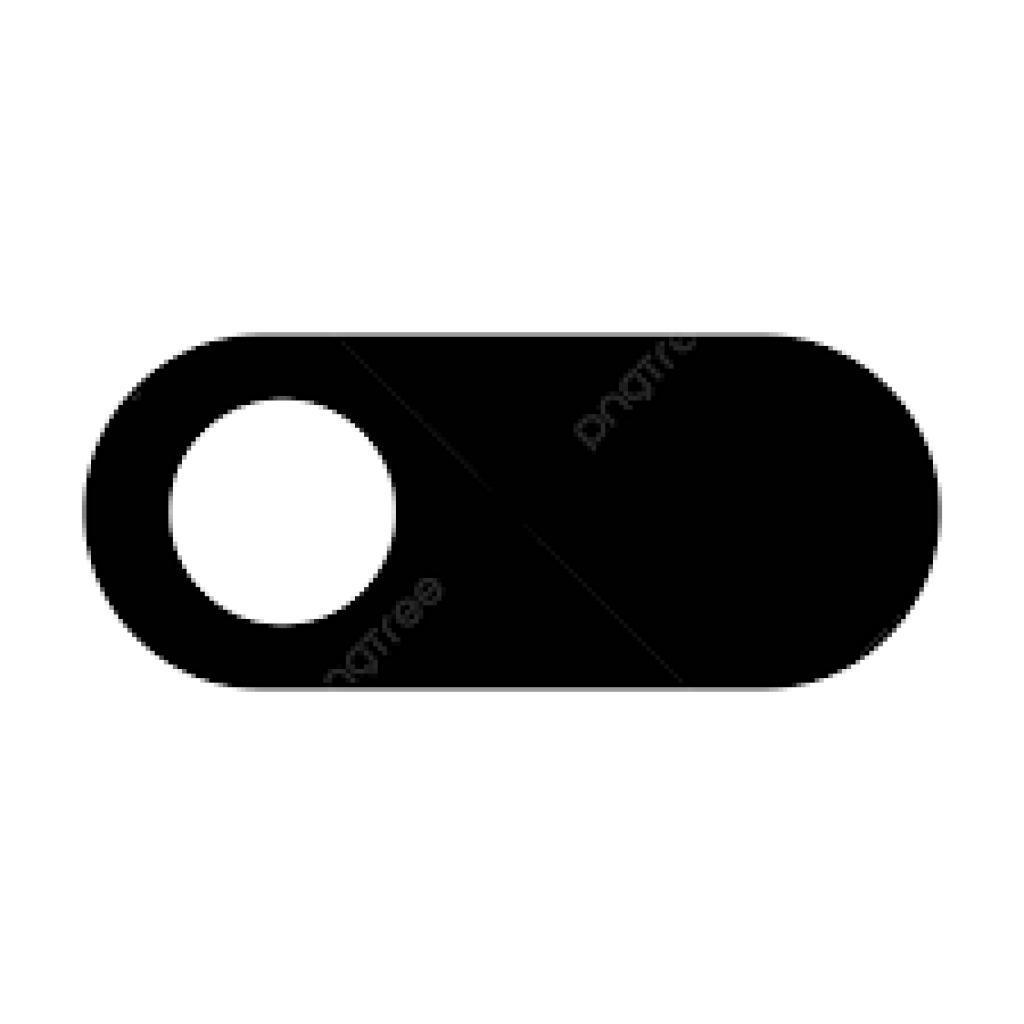switch: (84, 334, 944, 689)
